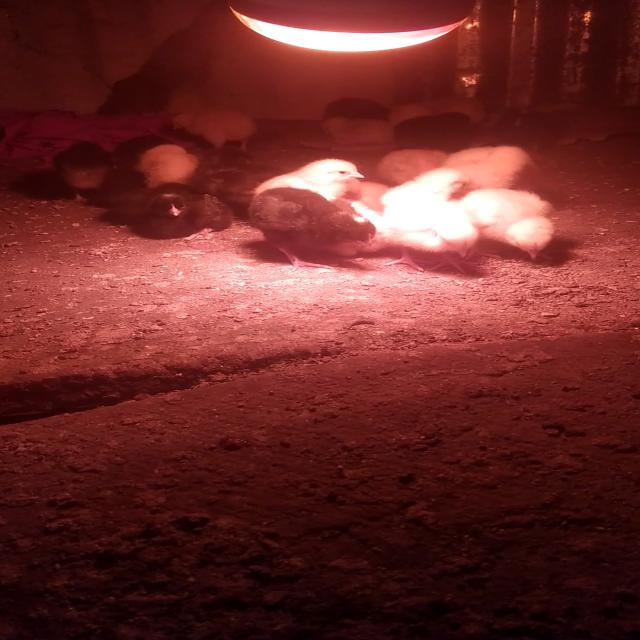chick: (245, 187, 378, 272), (378, 199, 482, 275), (459, 188, 559, 261), (252, 158, 368, 202), (132, 192, 236, 240), (443, 145, 531, 189), (51, 138, 110, 200), (169, 112, 259, 150), (376, 167, 471, 203), (134, 144, 201, 187), (376, 149, 448, 184), (399, 112, 472, 143), (321, 116, 397, 145)
